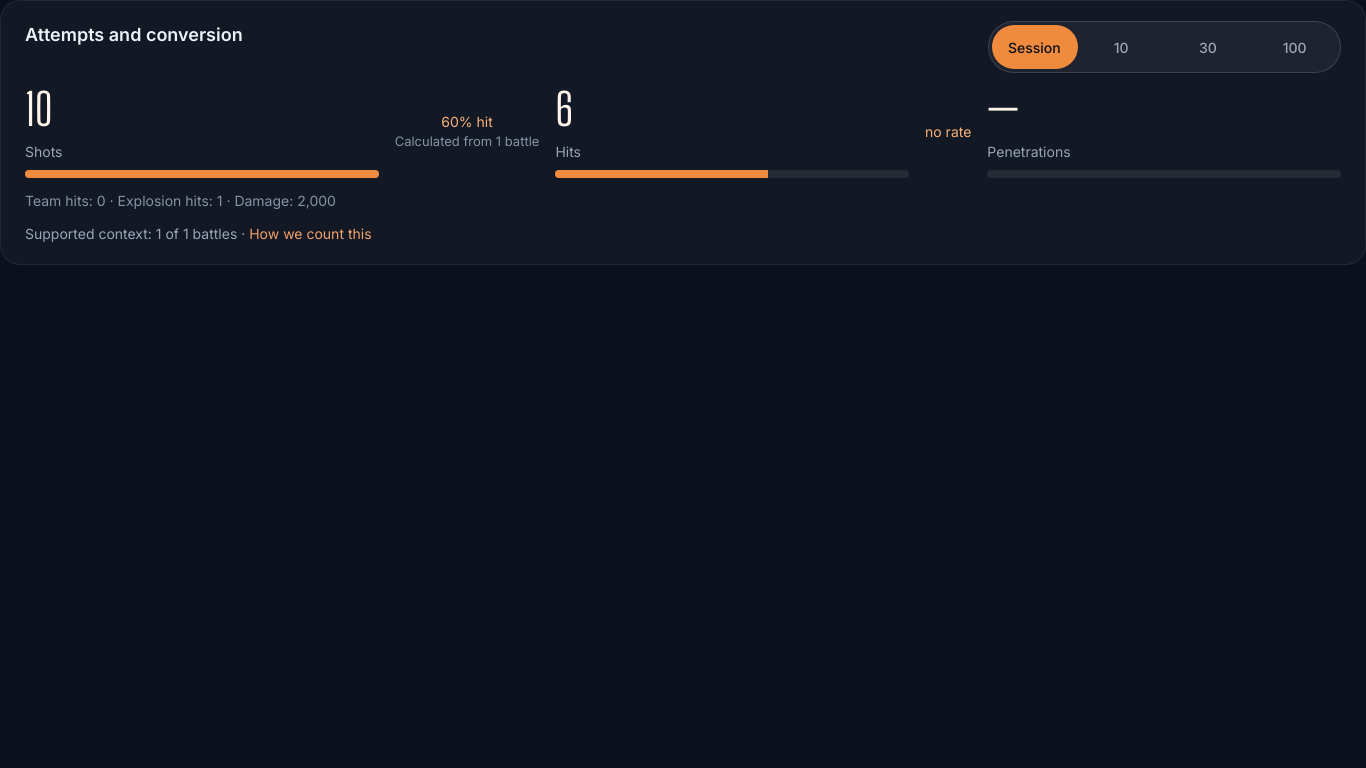
Test: AttemptsConversionPanel v2 › explains every skipped battle in one dialog, per indicator, without zero-count reasons
Check: the text "Shots" is shown, box 25,143 -> 62,160
Click the button "How we count this": coordinates (310, 234) 249,223 -> 372,244
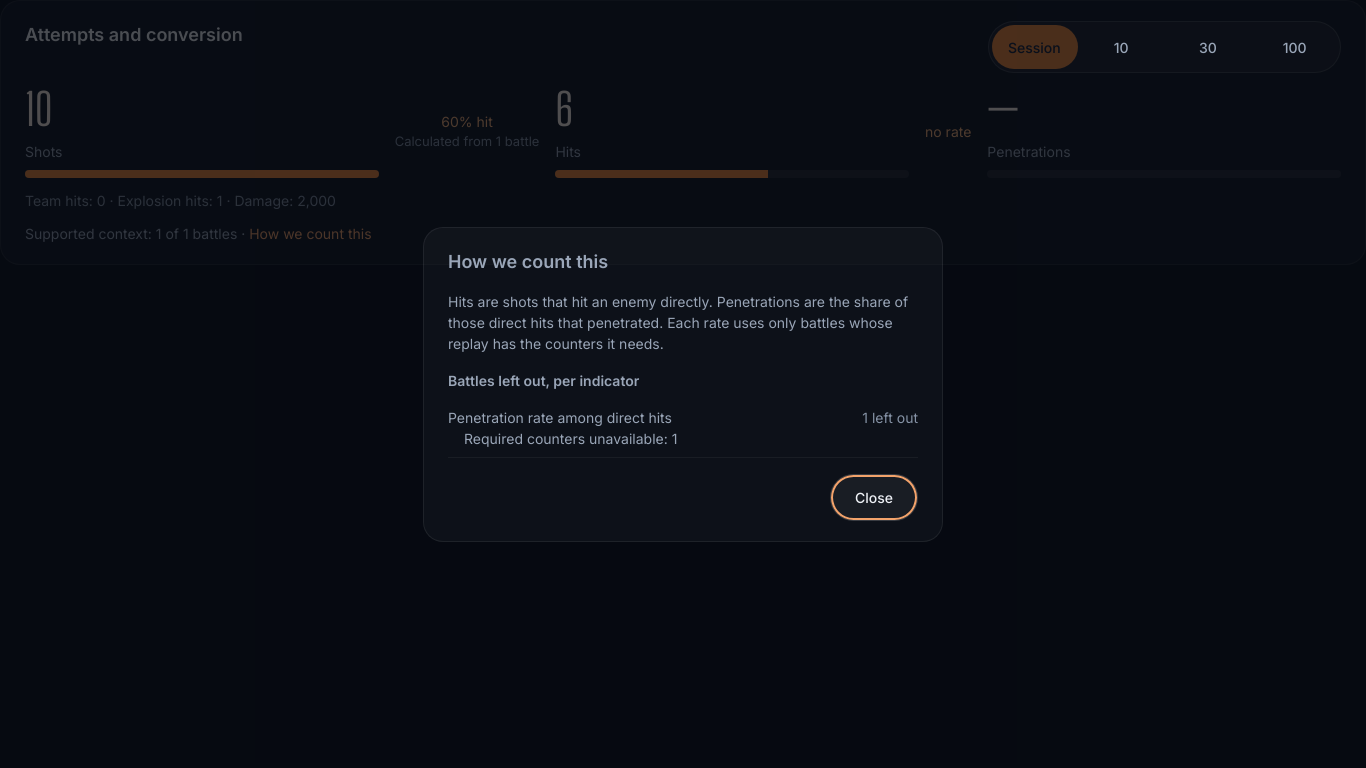
Check: the dialog "How we count this" shows "Penetration rate among direct hits 1 left out", box 423,226 -> 943,542
Check: the dialog "How we count this" shows "Required counters unavailable: 1", box 423,226 -> 943,542
Press Escape
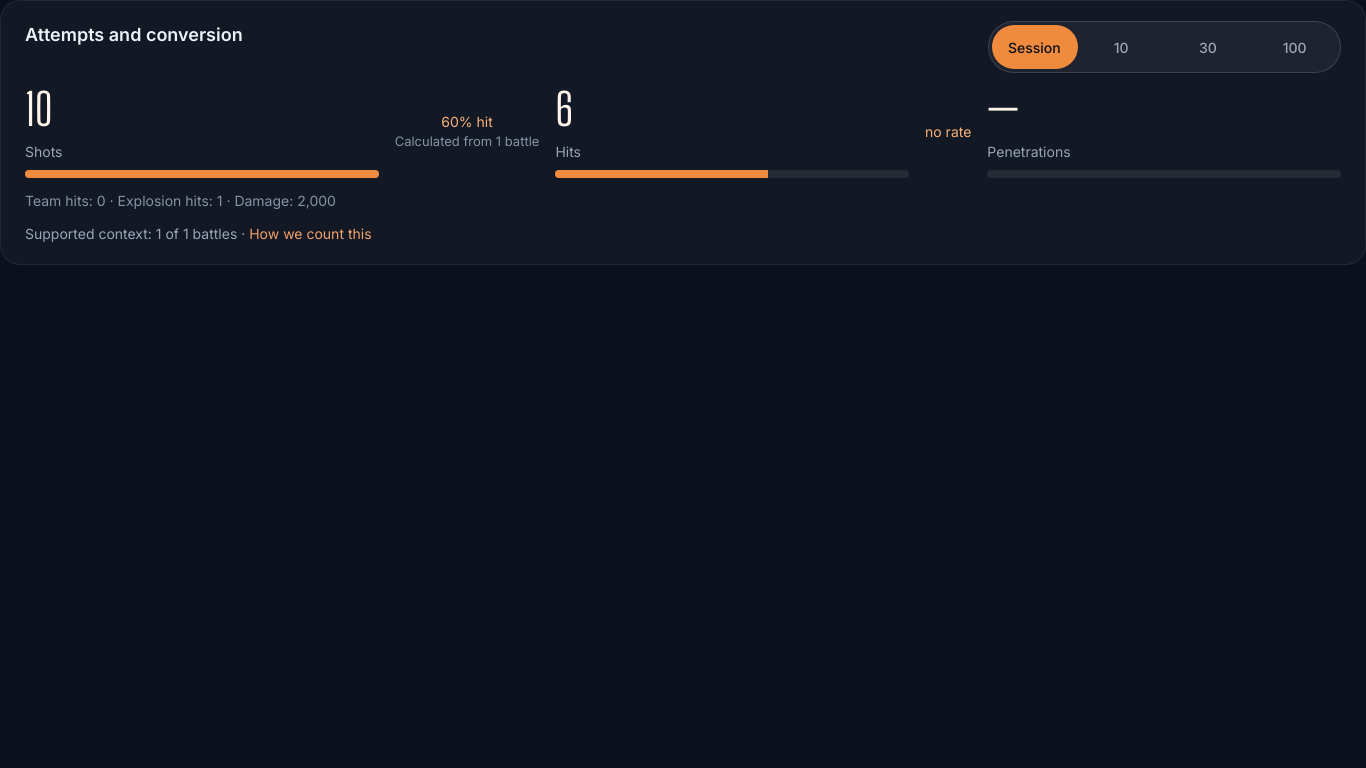
Check: the dialog is gone
